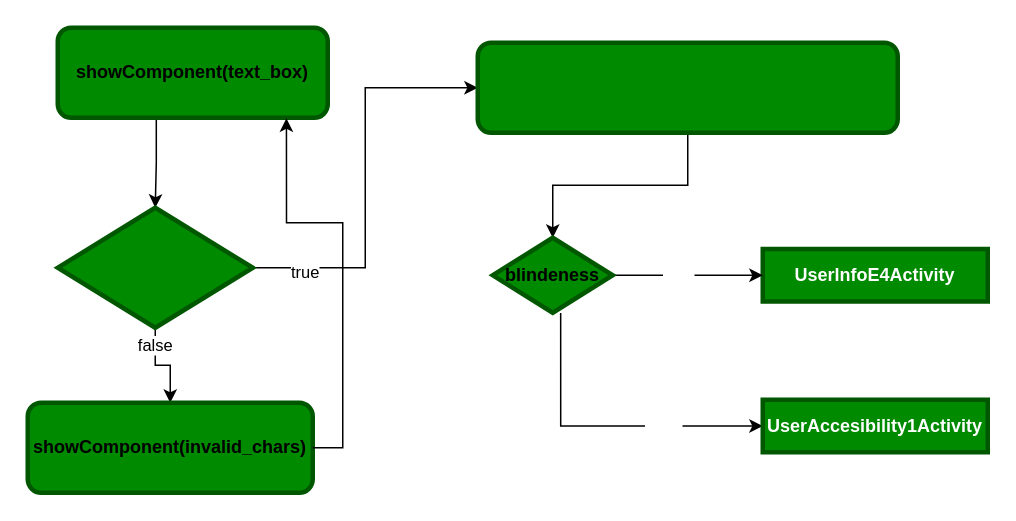
This 1016x521 diagram has some shape labels left out. Here are the shapes that lost their labels. From the top down, the centre of each, then its label:
At pixel 687 87: "writeProfile(UserInfoE3Activity)".
At pixel 154 267: "validChars()".
